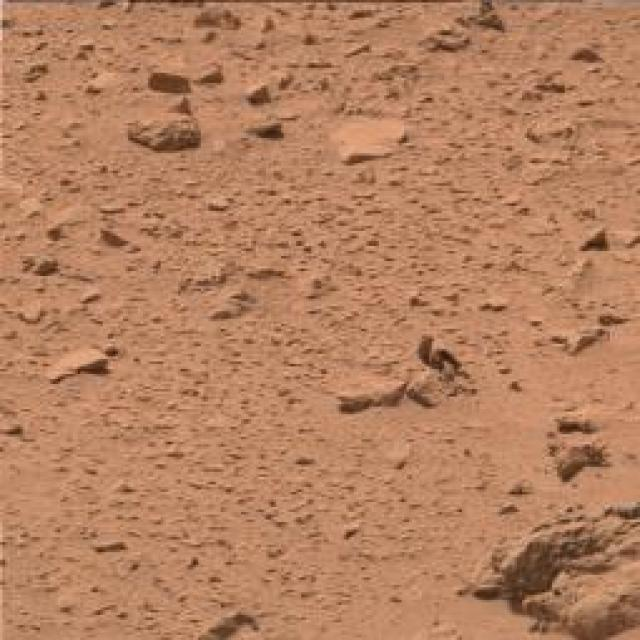rock: (462, 494, 640, 640), (535, 390, 640, 478), (390, 339, 480, 405), (126, 105, 200, 153), (40, 348, 118, 388), (333, 375, 404, 412), (458, 0, 516, 34), (146, 63, 197, 95), (416, 24, 474, 52), (194, 0, 238, 29), (246, 116, 284, 145), (240, 78, 275, 105), (190, 65, 229, 84)
